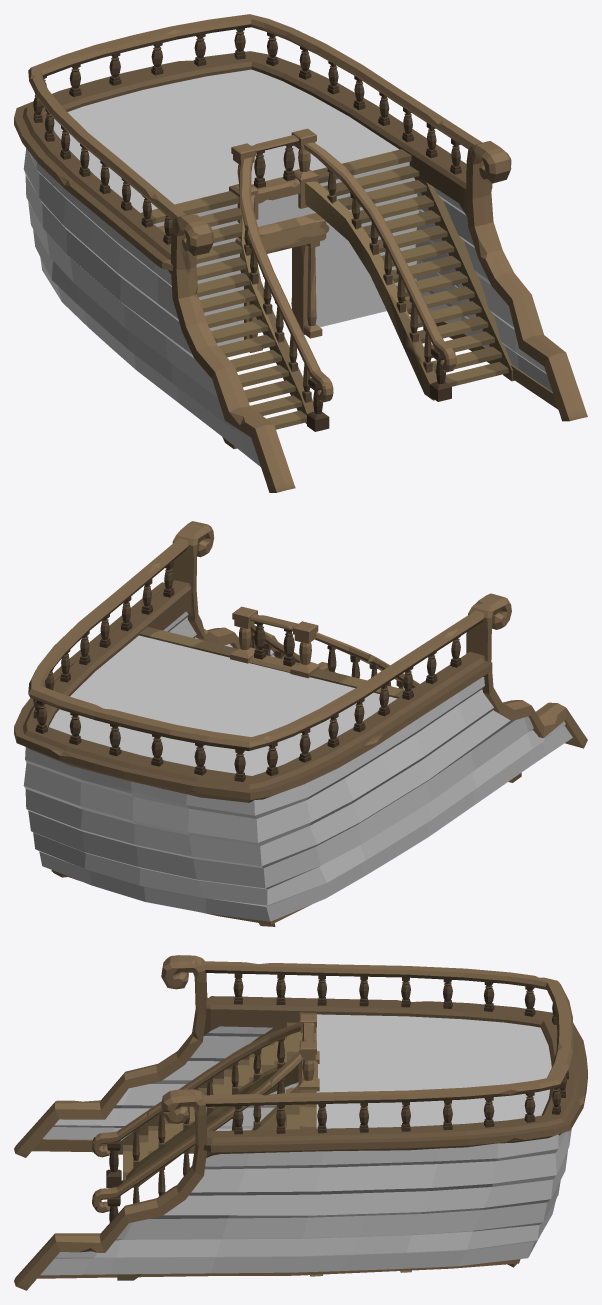
Rendered from SM_Veh_Ship_M_Back_03_Alt.fbx.
3 views of the same model, one above another, from view 1: azimuth 30°, elevation 25°; view 2: azimuth 150°, elevation 25°; view 3: azimuth 270°, elevation 25° (orthographic). The views are drawn at different scales.
Parts seen in each view (by area): view 1: SM_Veh_Ship_M_Back_03_Alt; view 2: SM_Veh_Ship_M_Back_03_Alt; view 3: SM_Veh_Ship_M_Back_03_Alt.
Boxes of the visible parts, box(x1,y1,x2,y2) form: SM_Veh_Ship_M_Back_03_Alt: box(14, 14, 587, 492); SM_Veh_Ship_M_Back_03_Alt: box(14, 521, 587, 926); SM_Veh_Ship_M_Back_03_Alt: box(14, 955, 587, 1290).
Size of the model in its own units: 704 by 426 by 1142.
